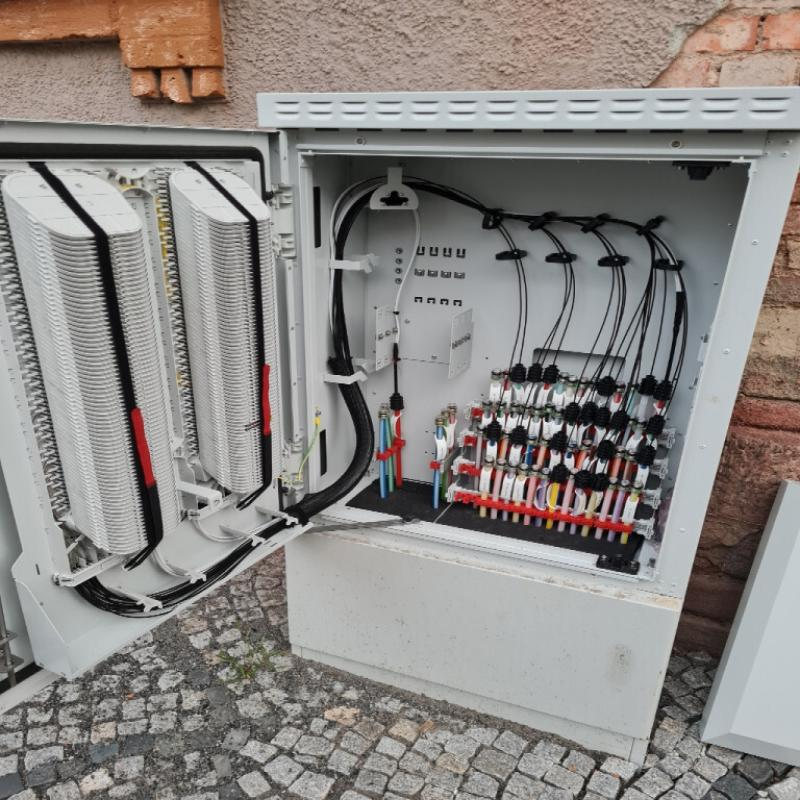NT-Gehause: (0, 87, 800, 760)
Spleiskassetten: (5, 161, 188, 573), (161, 168, 288, 497)
